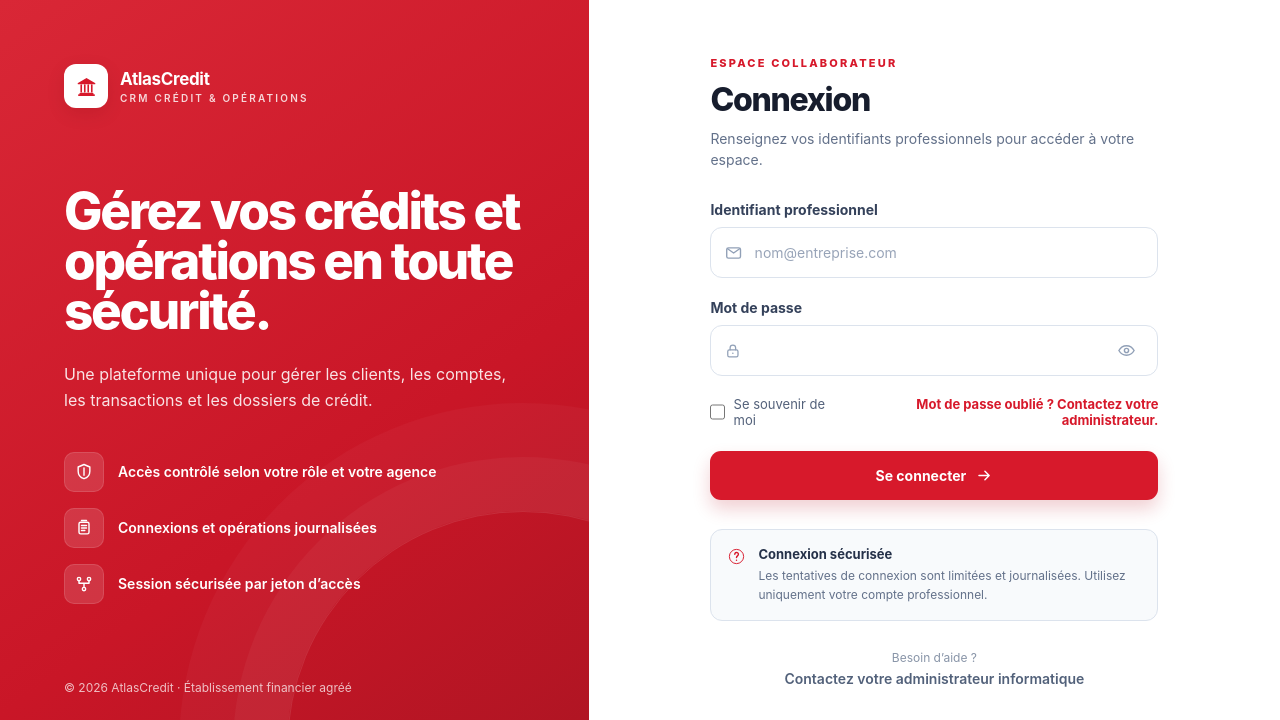
Test case: does not expose user management when the current role lacks permission
The image size is (1280, 720).
Type "aminata@example.test" into the field labelled "Identifiant professionnel".
click(943, 253); type("aminata@example.test")  # box [743,228,1143,277]
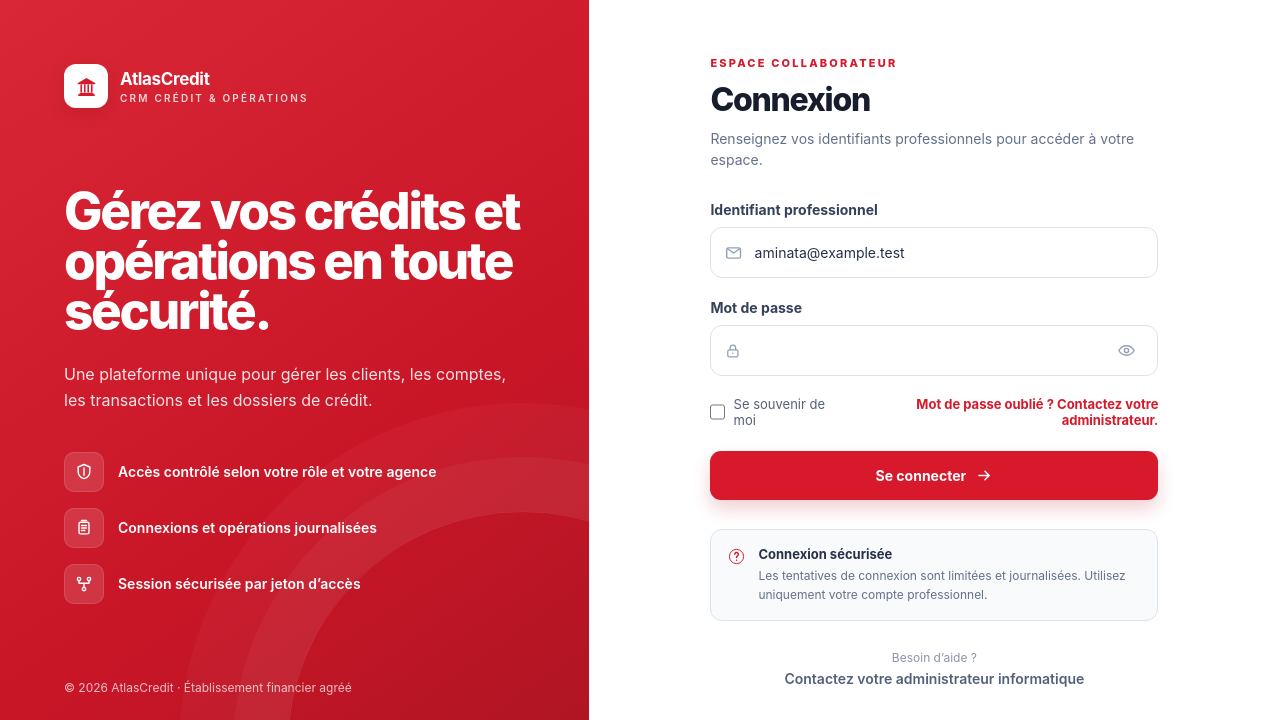
Type "correct-password" into the password field labelled "Mot de passe".
click(925, 351); type("correct-password")  # box [741,326,1109,375]
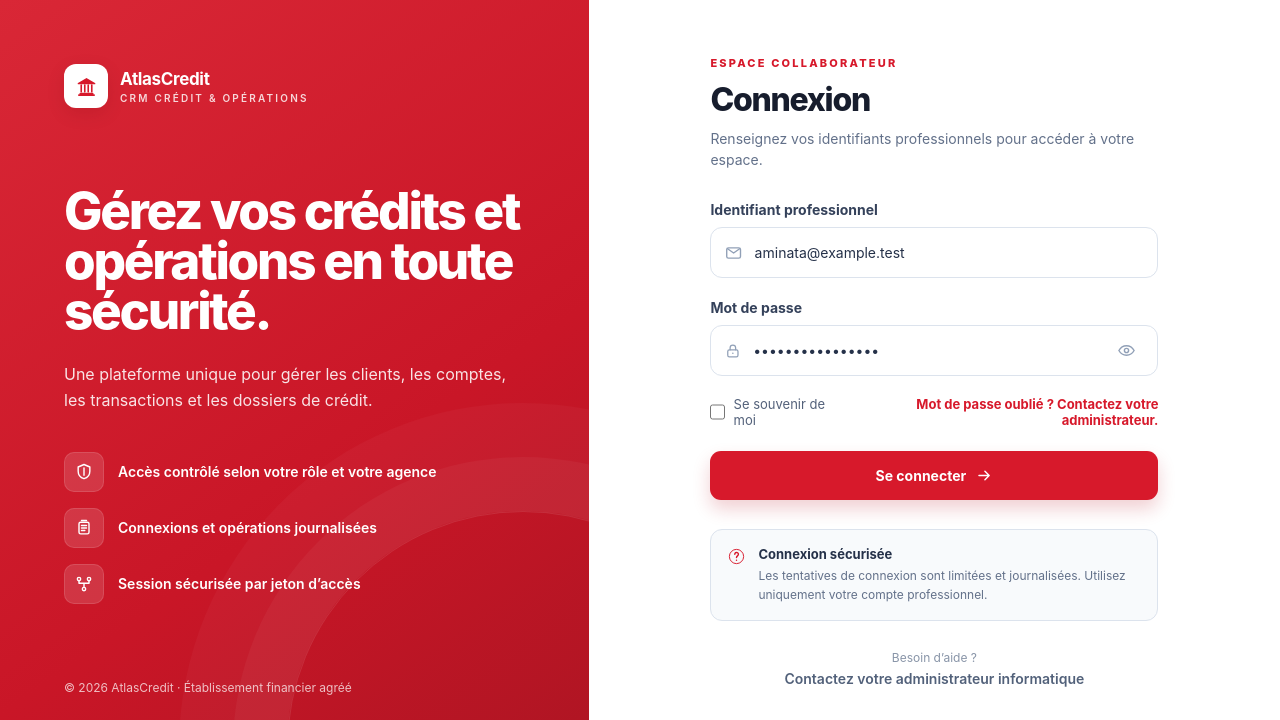
Click the button "Se connecter".
click(934, 476)  # box [710,451,1158,500]
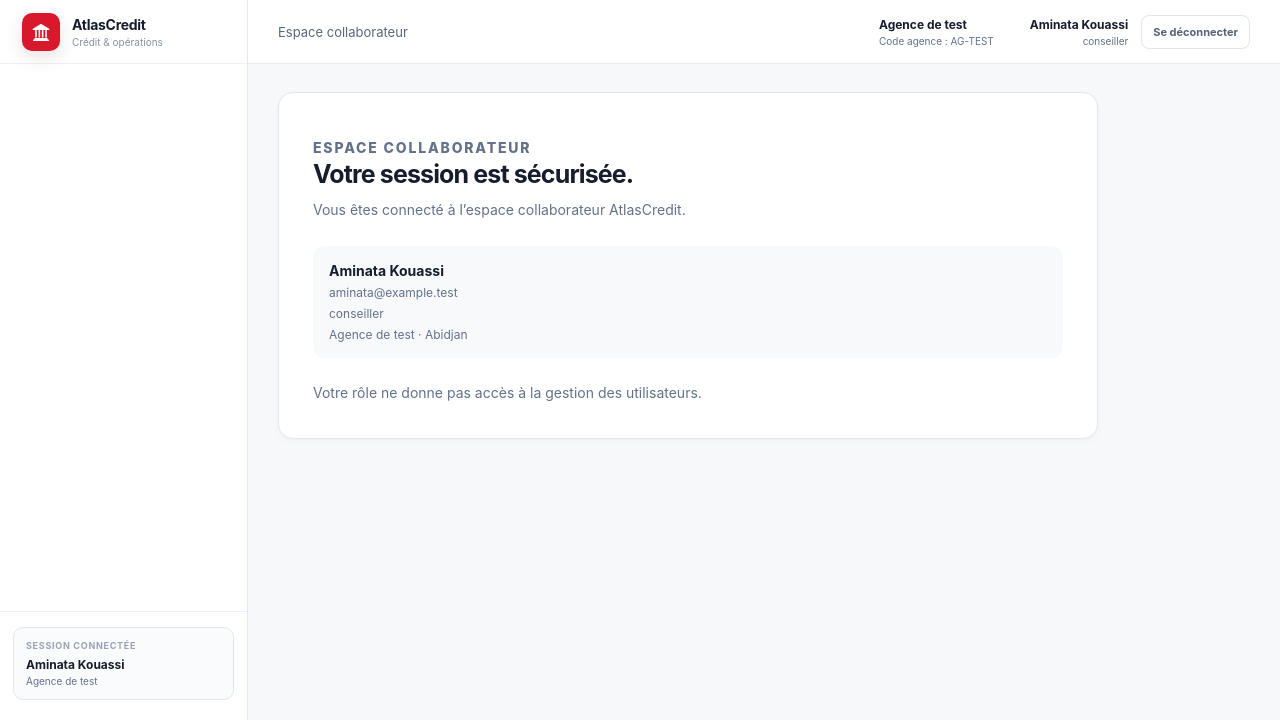
Expected: the text "Votre rôle ne donne pas accès à la gestion des utilisateurs." is shown, [313,384,702,401]
